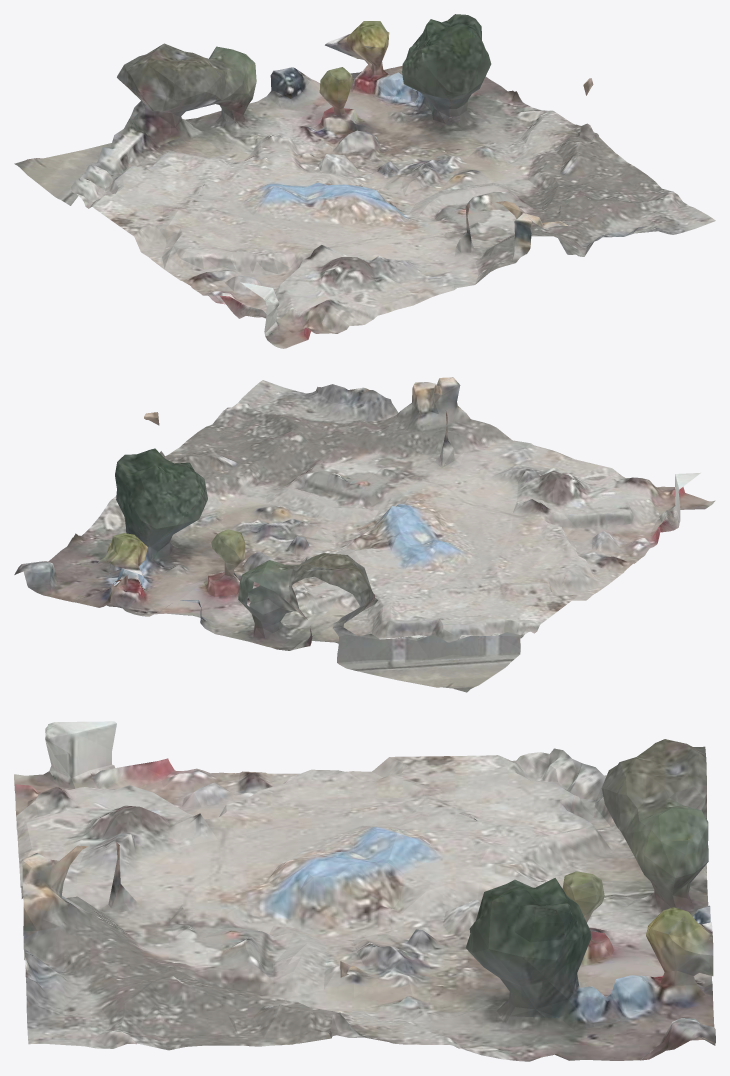
File: Tile_+012_+009_L20_000001220.glb
The picture shows the model from 3 angles, top to bottom: view 1: azimuth 30°, elevation 25°; view 2: azimuth 150°, elevation 25°; view 3: azimuth 270°, elevation 25°; orthographic projection. The views are drawn at different scales.
Parts seen in each view (by area): view 1: rtc; view 2: rtc; view 3: rtc.
Boxes of the visible parts, box(x1,y1,x2,y2) form: rtc: box(14, 14, 715, 348); rtc: box(14, 377, 715, 692); rtc: box(14, 721, 715, 1061).
Size of the model in its own units: 32.13 by 6.84 by 32.13.
Materials: 1 (1 with a texture image).
